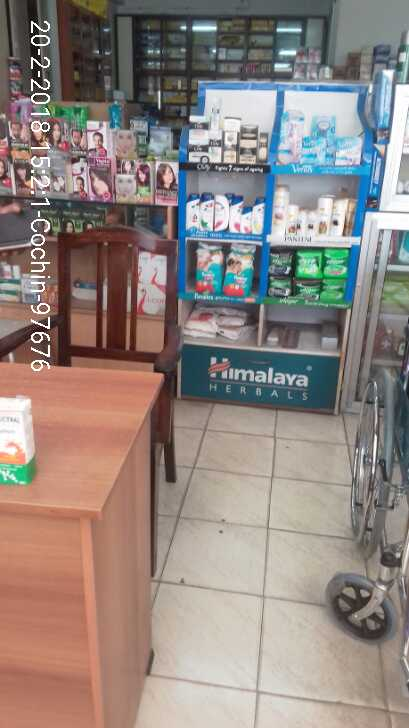venus: (281, 110, 301, 158), (319, 118, 337, 164), (337, 138, 360, 164), (302, 136, 318, 158)
